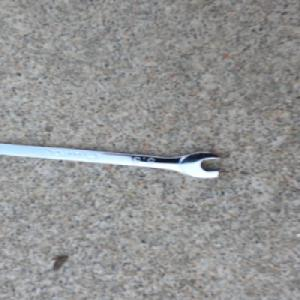Wrench: (0, 141, 224, 180)
